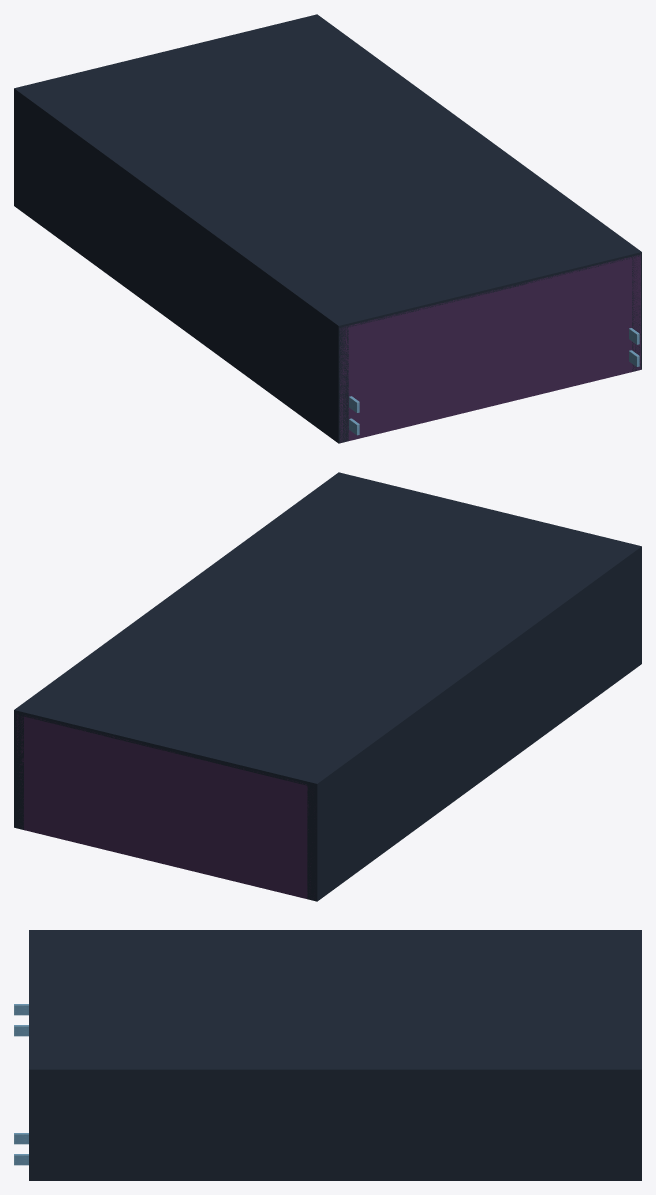
The model's file is trip-ice.glb.
3 views of the same model, one above another, from view 1: azimuth 30°, elevation 25°; view 2: azimuth 150°, elevation 25°; view 3: azimuth 270°, elevation 25° (orthographic). The views are drawn at different scales.
Parts seen in each view (by area): view 1: ice; view 2: ice; view 3: ice.
Part boxes in pixels (bbox=[...]): ice: bbox=[14, 14, 641, 443]; ice: bbox=[14, 472, 641, 901]; ice: bbox=[14, 930, 641, 1180].
Size of the model in its own units: 30.2 by 11.52 by 57.38.
Materials: 19 (7 with a texture image).
